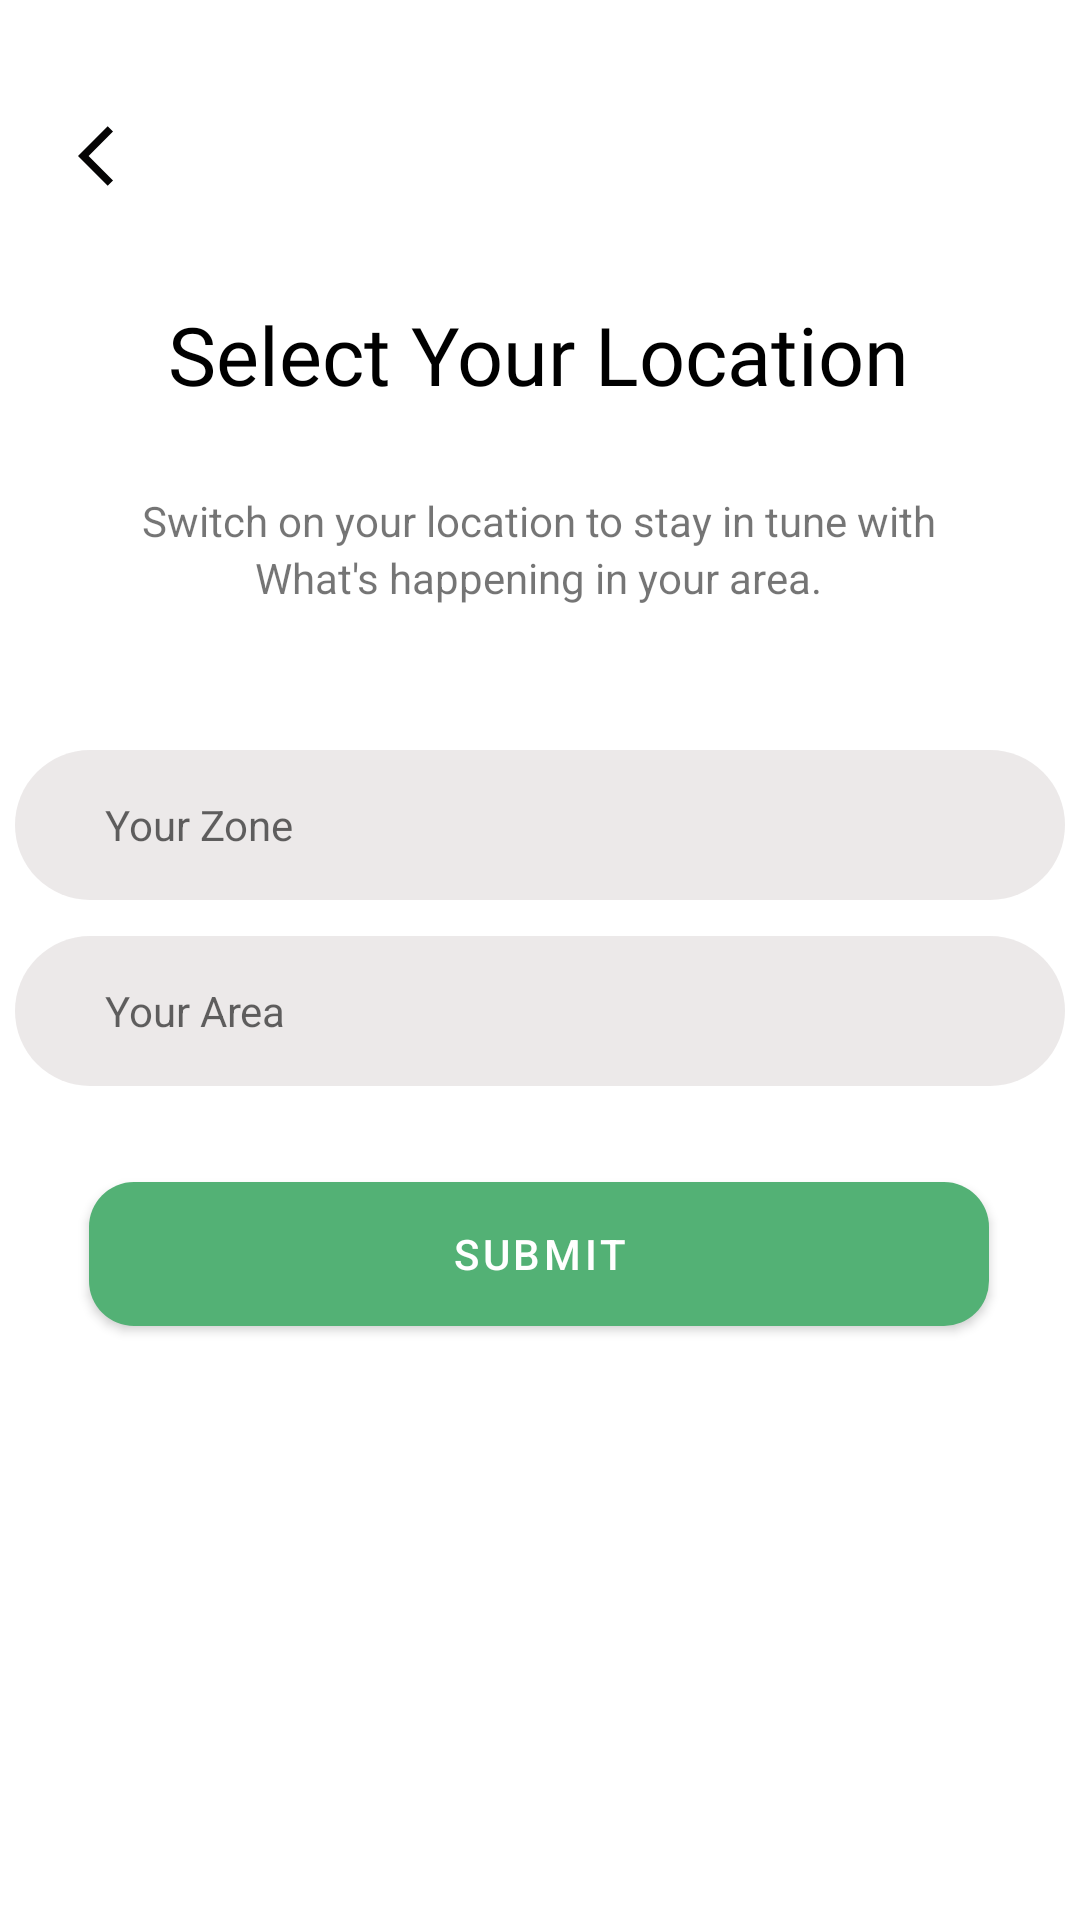

Point at icon controls on the screen. Image size 1080 × 1920, points as (x=x, y=y).
arrow back: (x=95, y=156)
